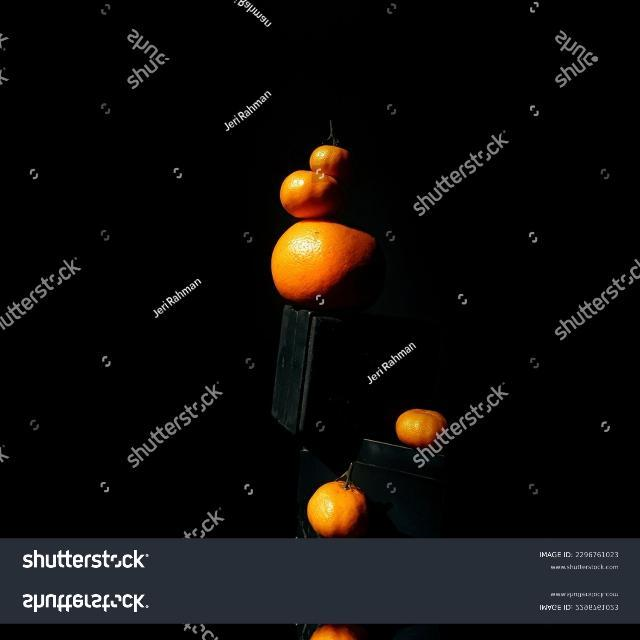Orange: (269, 218, 376, 305), (305, 479, 367, 537), (278, 168, 342, 218), (394, 407, 447, 447), (308, 143, 351, 182), (309, 623, 360, 639)
